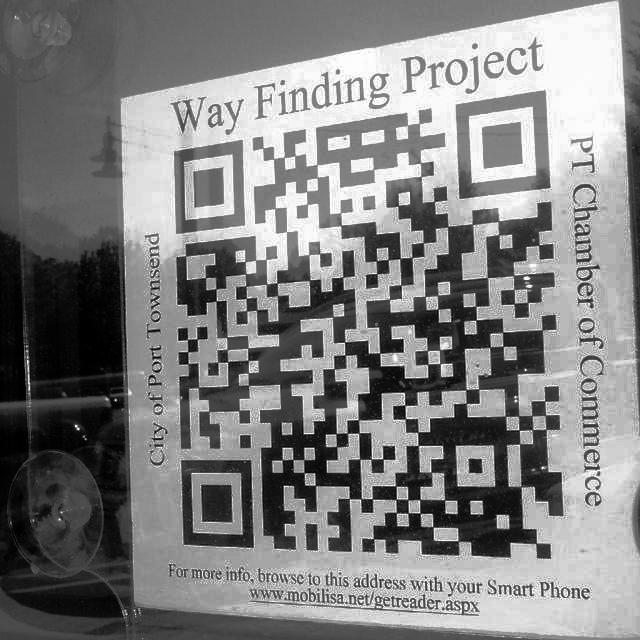qr_code: (174, 90, 564, 558)
